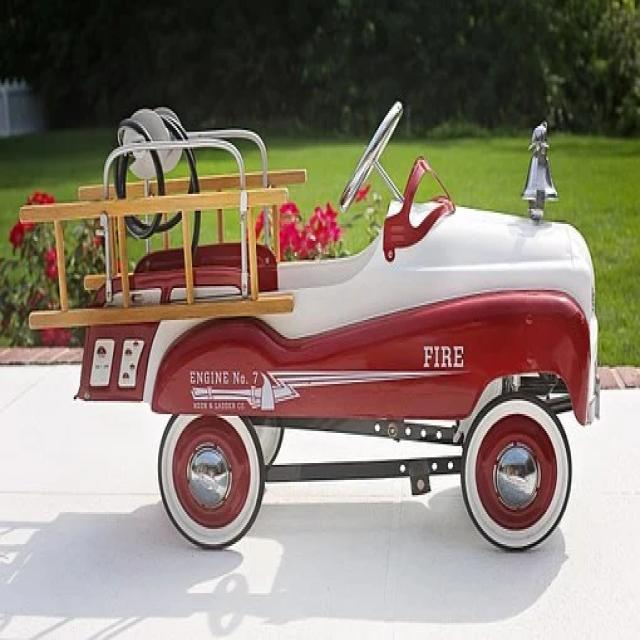Car: (20, 98, 601, 553)
